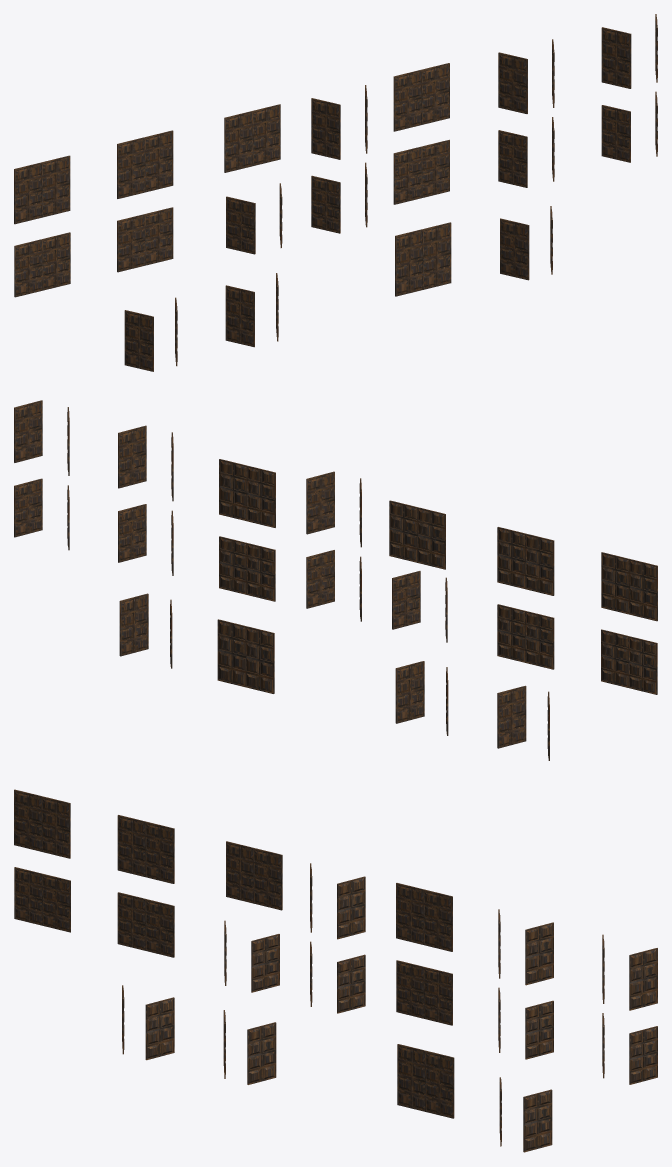
File: 26_04_2020_ventanasnuevas.fbx
The picture shows the model from 3 angles, top to bottom: view 1: azimuth 30°, elevation 25°; view 2: azimuth 150°, elevation 25°; view 3: azimuth 330°, elevation 25°; orthographic projection.
Visible parts, largest first — view 1: Cube.002, Cube.003, Cube.034, Cube.027, Cube.036, Cube.040, Cube.031, Cube.032, Cube.038, Cube.051, Cube.052, Cube.050 (+14 smaller); view 2: Cube.002, Cube.003, Cube.041, Cube.037, Cube.039, Cube.042, Cube.051, Cube.043, Cube.052, Cube.053, Cube.029, Cube.050 (+14 smaller); view 3: Cube.002, Cube.003, Cube.043, Cube.041, Cube.037, Cube.039, Cube.052, Cube.029, Cube.042, Cube.050, Cube.028, Cube.033 (+14 smaller).
Part boxes in pixels (x1=…): Cube.002: x1=422, y1=222, x2=451, y2=289; Cube.003: x1=395, y1=229, x2=423, y2=296; Cube.034: x1=601, y1=27, x2=631, y2=88; Cube.027: x1=311, y1=98, x2=340, y2=159; Cube.036: x1=500, y1=218, x2=529, y2=280; Cube.040: x1=124, y1=310, x2=153, y2=371; Cube.031: x1=224, y1=111, x2=253, y2=172; Cube.032: x1=498, y1=52, x2=527, y2=113; Cube.038: x1=225, y1=285, x2=254, y2=347; Cube.051: x1=393, y1=69, x2=422, y2=131; Cube.052: x1=41, y1=155, x2=70, y2=217; Cube.050: x1=421, y1=63, x2=449, y2=124; Cube.002: x1=217, y1=619, x2=246, y2=687; Cube.003: x1=245, y1=626, x2=274, y2=693; Cube.041: x1=497, y1=685, x2=526, y2=748; Cube.037: x1=119, y1=593, x2=148, y2=656; Cube.039: x1=395, y1=661, x2=424, y2=723; Cube.042: x1=525, y1=533, x2=554, y2=595; Cube.051: x1=246, y1=465, x2=275, y2=527; Cube.043: x1=497, y1=527, x2=526, y2=588; Cube.052: x1=601, y1=552, x2=630, y2=614; Cube.053: x1=628, y1=559, x2=657, y2=621; Cube.029: x1=389, y1=500, x2=418, y2=562; Cube.050: x1=219, y1=459, x2=248, y2=521; Cube.002: x1=425, y1=1051, x2=454, y2=1118; Cube.003: x1=397, y1=1044, x2=426, y2=1111; Cube.043: x1=145, y1=821, x2=174, y2=883; Cube.041: x1=145, y1=997, x2=174, y2=1060; Cube.037: x1=523, y1=1089, x2=552, y2=1152; Cube.039: x1=247, y1=1022, x2=276, y2=1084; Cube.052: x1=41, y1=796, x2=70, y2=858; Cube.029: x1=253, y1=848, x2=282, y2=910; Cube.042: x1=117, y1=815, x2=146, y2=876; Cube.050: x1=423, y1=889, x2=452, y2=951; Cube.028: x1=337, y1=876, x2=365, y2=939; Cube.033: x1=525, y1=922, x2=553, y2=985.
Bounding box in the file's own units: 7461 × 2462 × 332.
